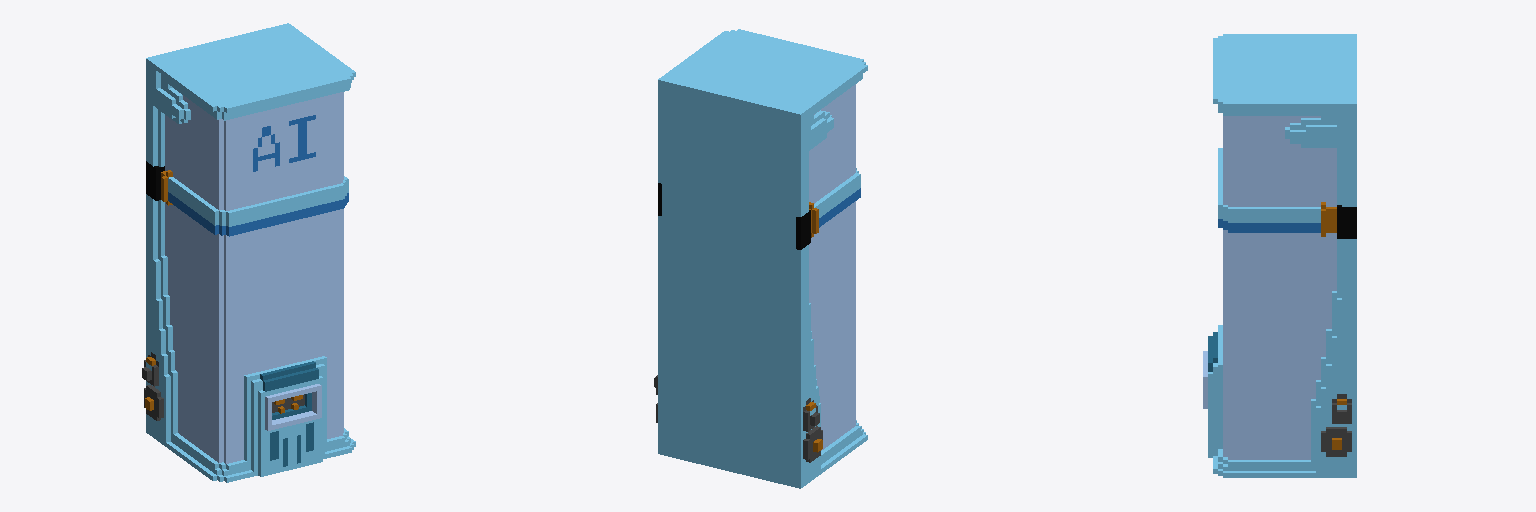
3 views of the same model, side by side, from view 1: azimuth 30°, elevation 25°; view 2: azimuth 150°, elevation 25°; view 3: azimuth 270°, elevation 25° (orthographic).
Parts seen in each view (by area): view 1: object 1; view 2: object 1; view 3: object 1.
Part boxes in pixels (x1,y1,x2,y2): object 1: (142,23,355,482); object 1: (654,29,867,488); object 1: (1203,34,1356,477).
Size of the model in its own units: 3.6 by 8 by 3.
1 materials, 1 textured.